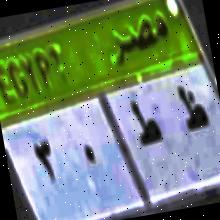0: (79, 136, 101, 174)
3: (30, 130, 62, 190)
Taa: (128, 93, 166, 161)
Thaa: (176, 82, 212, 148)
